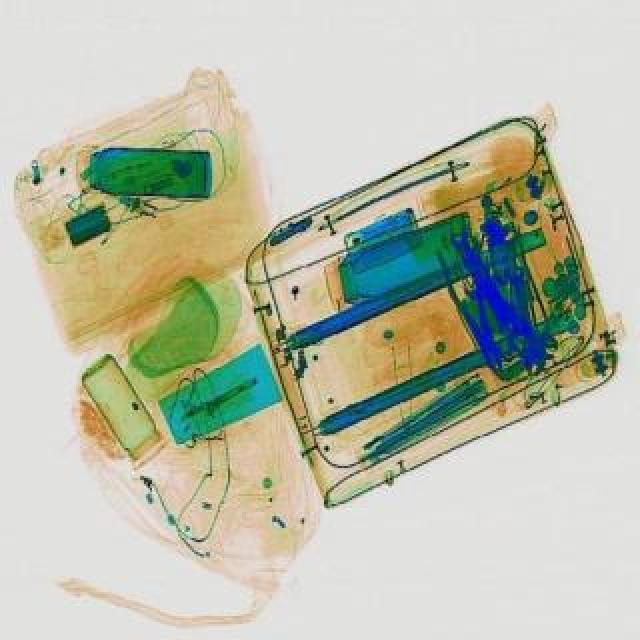scissors: (442, 226, 538, 354)
wrench: (432, 242, 516, 378)
